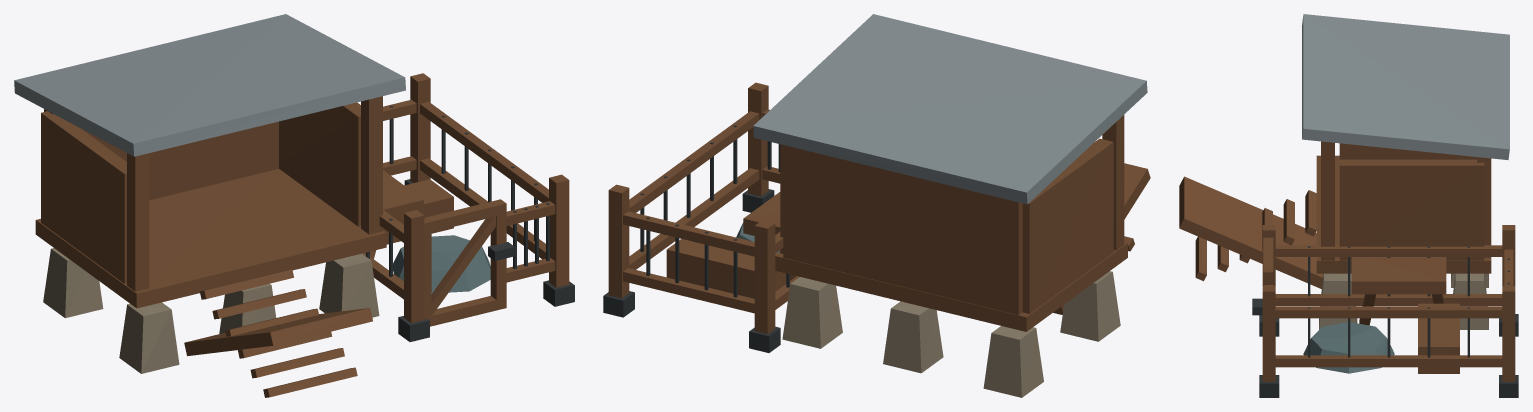
File: goat-shed.source.glb
The picture shows the model from 3 angles, left to right: view 1: azimuth 30°, elevation 25°; view 2: azimuth 150°, elevation 25°; view 3: azimuth 270°, elevation 25°; orthographic projection. The views are drawn at different scales.
Parts seen in each view (by area): view 1: goat-shed-single-slope-roof-mesh, goat-shed-raised-timber-floor-mesh, goat-shed-left-windbreak-wall-mesh, goat-shed-right-windbreak-wall-mesh, goat-shed-rear-windbreak-wall-mesh, goat-shed-ramp-deck-mesh, goat-shed-front-left-stone-pier-mesh, goat-shed-left-front-post-mesh, goat-shed-right-front-post-mesh, goat-shed-front-right-stone-pier-mesh, goat-shed-rear-left-stone-pier-mesh, goat-shed-water-basin-mesh (+25 smaller); view 2: goat-shed-single-slope-roof-mesh, goat-shed-rear-windbreak-wall-mesh, goat-shed-left-windbreak-wall-mesh, goat-shed-raised-timber-floor-mesh, goat-shed-feed-trough-mesh, goat-shed-rear-left-stone-pier-mesh, goat-shed-rear-center-stone-pier-mesh, goat-shed-rear-right-stone-pier-mesh, goat-shed-front-left-stone-pier-mesh, goat-shed-rear-left-pen-post-mesh, goat-shed-right-side-rail-0.9-mesh, goat-shed-rear-right-pen-post-mesh (+9 smaller); view 3: goat-shed-single-slope-roof-mesh, goat-shed-right-windbreak-wall-mesh, goat-shed-ramp-deck-mesh, goat-shed-platform-deck-mesh, goat-shed-right-side-rail-0.9-mesh, goat-shed-right-side-rail-0.36-mesh, goat-shed-water-basin-mesh, goat-shed-left-side-rail-0.9-mesh, goat-shed-left-side-rail-0.36-mesh, goat-shed-raised-timber-floor-mesh, goat-shed-feed-trough-mesh, goat-shed-right-front-post-mesh (+15 smaller).
Boxes of the visible parts, left/top/right/bottom form: goat-shed-single-slope-roof-mesh: left=14, top=14, right=405, bottom=156; goat-shed-raised-timber-floor-mesh: left=35, top=169, right=386, bottom=308; goat-shed-left-windbreak-wall-mesh: left=41, top=111, right=126, bottom=283; goat-shed-right-windbreak-wall-mesh: left=279, top=102, right=360, bottom=226; goat-shed-rear-windbreak-wall-mesh: left=44, top=109, right=278, bottom=200; goat-shed-ramp-deck-mesh: left=184, top=308, right=372, bottom=356; goat-shed-front-left-stone-pier-mesh: left=119, top=302, right=179, bottom=373; goat-shed-left-front-post-mesh: left=127, top=153, right=149, bottom=291; goat-shed-right-front-post-mesh: left=361, top=96, right=382, bottom=234; goat-shed-front-right-stone-pier-mesh: left=319, top=253, right=379, bottom=317; goat-shed-rear-left-stone-pier-mesh: left=43, top=248, right=103, bottom=318; goat-shed-water-basin-mesh: left=393, top=235, right=490, bottom=293; goat-shed-single-slope-roof-mesh: left=753, top=14, right=1147, bottom=204; goat-shed-rear-windbreak-wall-mesh: left=783, top=145, right=1022, bottom=314; goat-shed-left-windbreak-wall-mesh: left=1022, top=138, right=1113, bottom=313; goat-shed-raised-timber-floor-mesh: left=775, top=242, right=1127, bottom=331; goat-shed-feed-trough-mesh: left=666, top=239, right=786, bottom=298; goat-shed-rear-left-stone-pier-mesh: left=983, top=326, right=1043, bottom=397; goat-shed-rear-center-stone-pier-mesh: left=883, top=301, right=943, bottom=373; goat-shed-rear-right-stone-pier-mesh: left=782, top=277, right=842, bottom=348; goat-shed-front-left-stone-pier-mesh: left=1060, top=271, right=1120, bottom=341; goat-shed-rear-left-pen-post-mesh: left=754, top=220, right=775, bottom=333; goat-shed-right-side-rail-0.9-mesh: left=629, top=111, right=759, bottom=212; goat-shed-rear-right-pen-post-mesh: left=608, top=184, right=629, bottom=298; goat-shed-single-slope-roof-mesh: left=1302, top=14, right=1509, bottom=160; goat-shed-right-windbreak-wall-mesh: left=1339, top=159, right=1484, bottom=260; goat-shed-ramp-deck-mesh: left=1179, top=176, right=1323, bottom=288; goat-shed-platform-deck-mesh: left=1351, top=257, right=1446, bottom=294; goat-shed-right-side-rail-0.9-mesh: left=1275, top=306, right=1502, bottom=318; goat-shed-right-side-rail-0.36-mesh: left=1275, top=355, right=1502, bottom=367; goat-shed-water-basin-mesh: left=1303, top=322, right=1394, bottom=373; goat-shed-left-side-rail-0.9-mesh: left=1275, top=245, right=1502, bottom=256; goat-shed-left-side-rail-0.36-mesh: left=1275, top=294, right=1502, bottom=305; goat-shed-raised-timber-floor-mesh: left=1316, top=155, right=1491, bottom=273; goat-shed-feed-trough-mesh: left=1418, top=303, right=1459, bottom=373; goat-shed-right-front-post-mesh: left=1321, top=141, right=1334, bottom=260.
Size of the model in its own units: 4.16 by 2.3 by 3.4.
